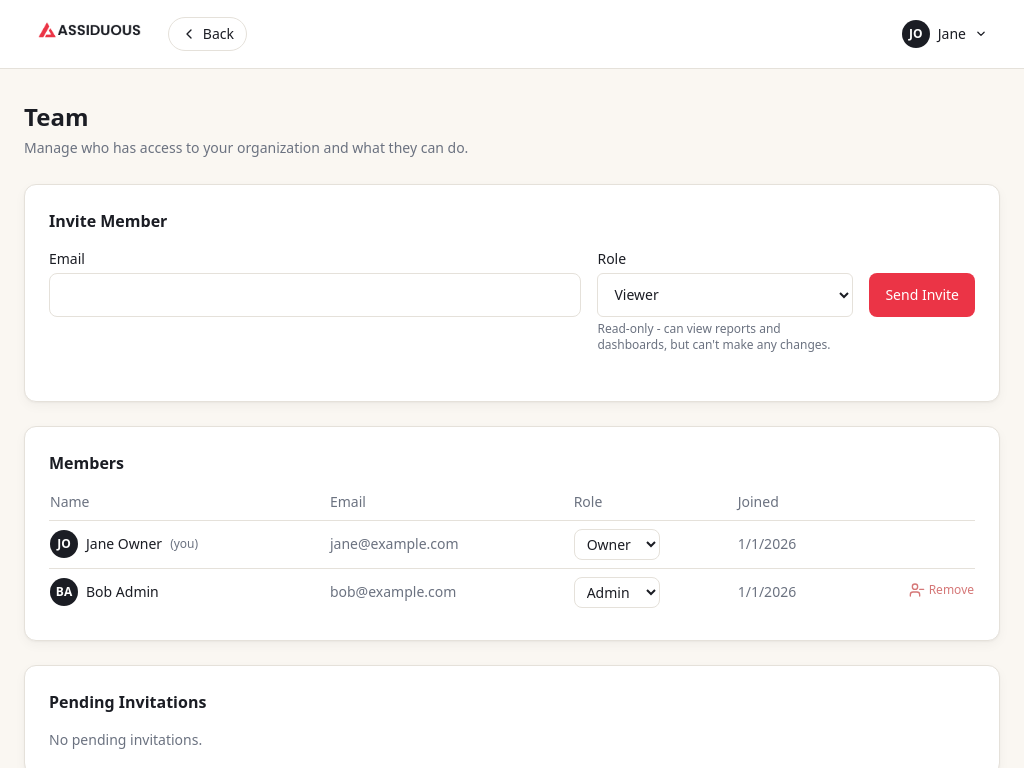
it: TeamSettingsView › removes a member after confirming in the modal
This screenshot has width=1024, height=768.
Step 1. Click the button "Remove" → (941, 590), box [909,582,974,598]
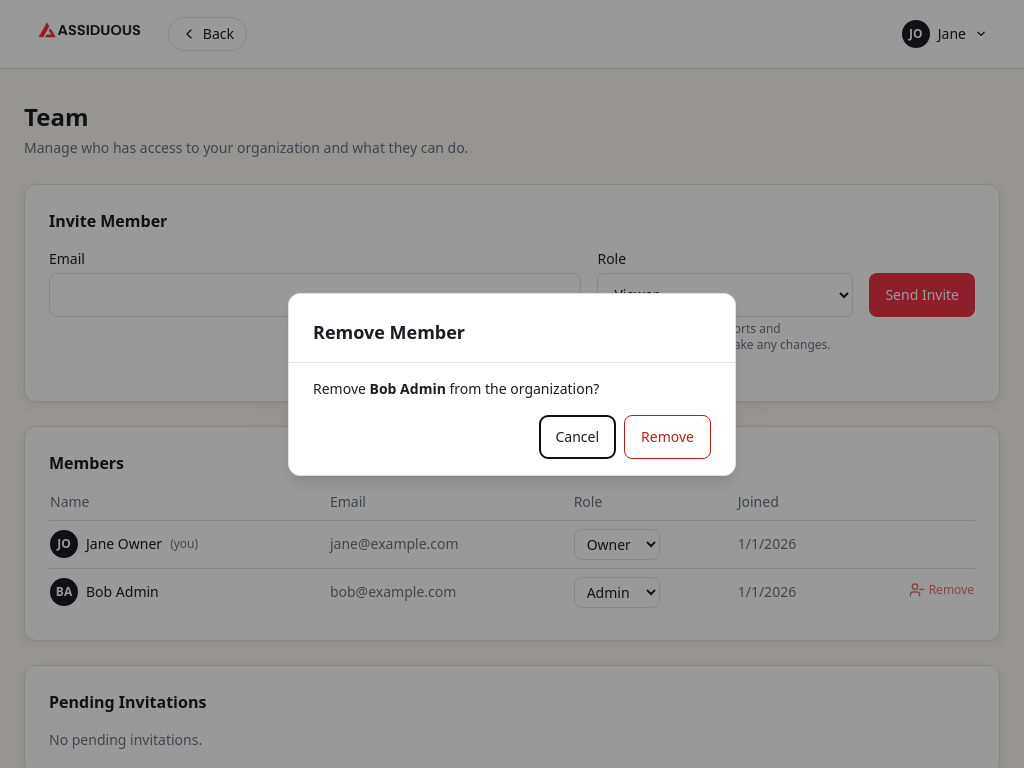
Now the text "Bob Admin" is shown, box [370,378,446,398]
Step 2. Click the button "Remove" → (668, 436), box [624,414,711,458]
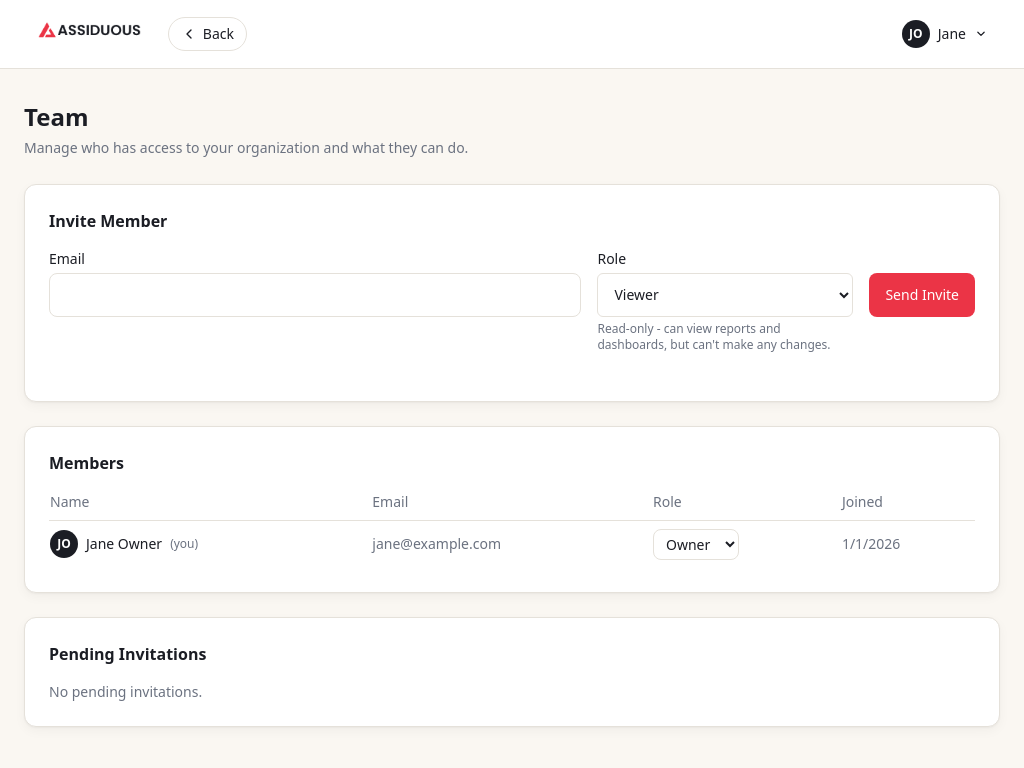
Now the dialog is gone
Now the text "Bob Admin" is gone
